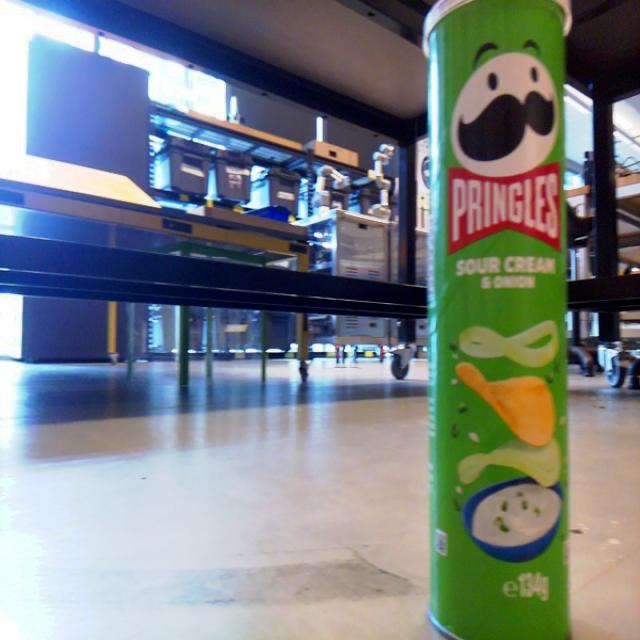greenpringles: (404, 0, 596, 640)
